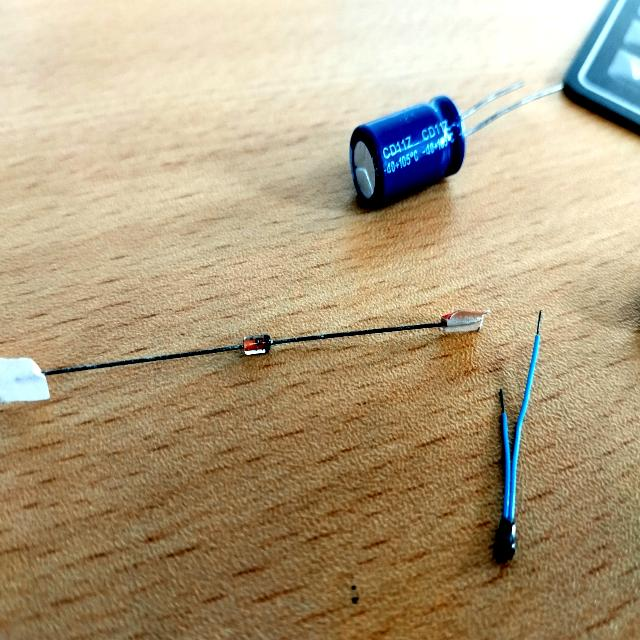capacitor: (350, 99, 465, 210)
